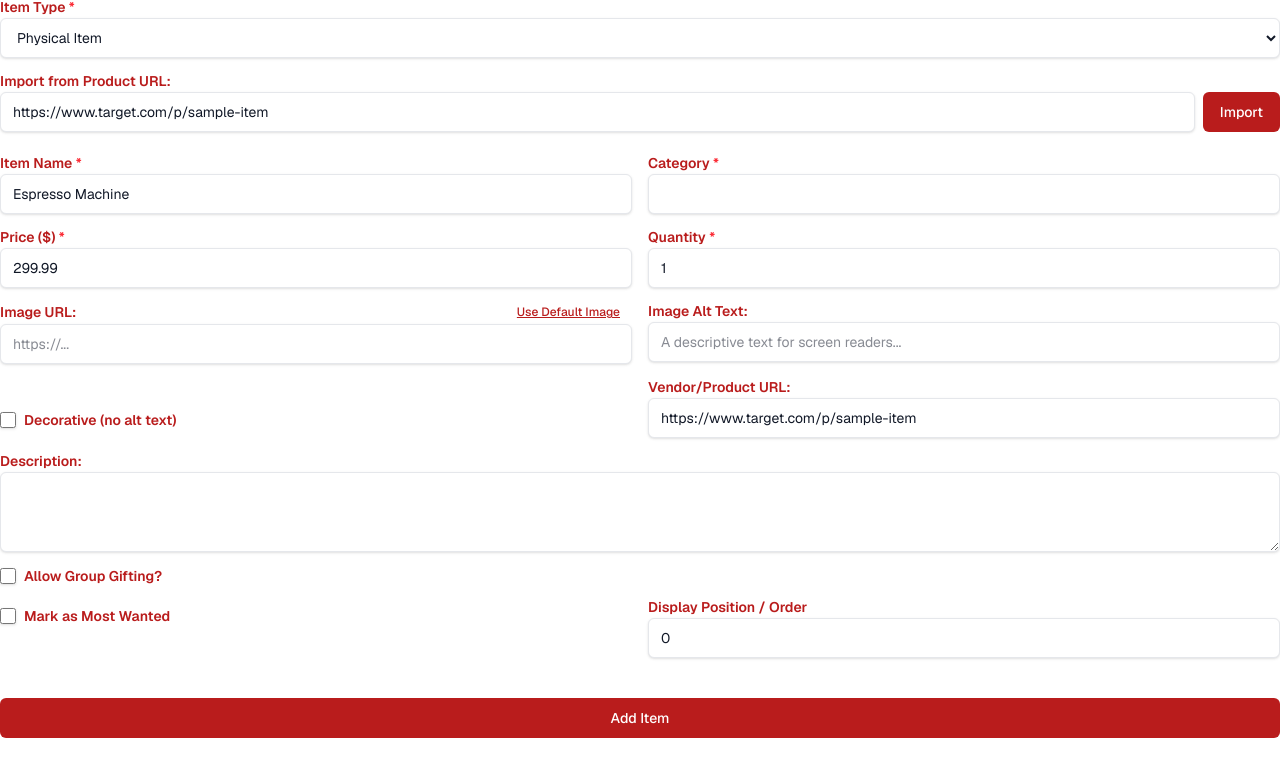
RegistryItemForm › does not overwrite vendorUrl when scraping fails if vendorUrl was already entered by user
The width and height of the screenshot is (1280, 777).
Replace the text in the field labelled "Vendor/Product URL:" with "https://custom-vendor.com/already-typed" at point(964, 418), box left=648, top=398, right=1279, bottom=438
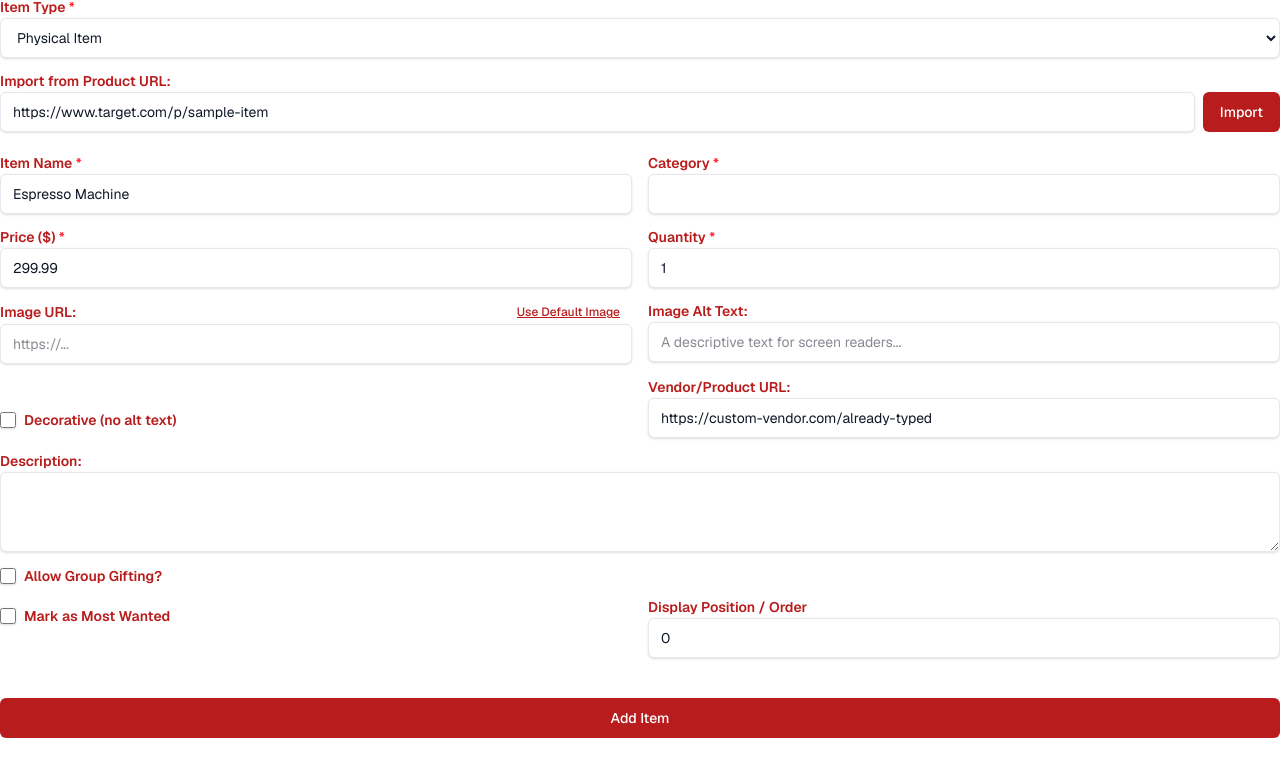
Replace the text in the field labelled "Import from Product URL:" with "https://example.com/bad-link" at point(597, 112), box left=0, top=92, right=1195, bottom=132
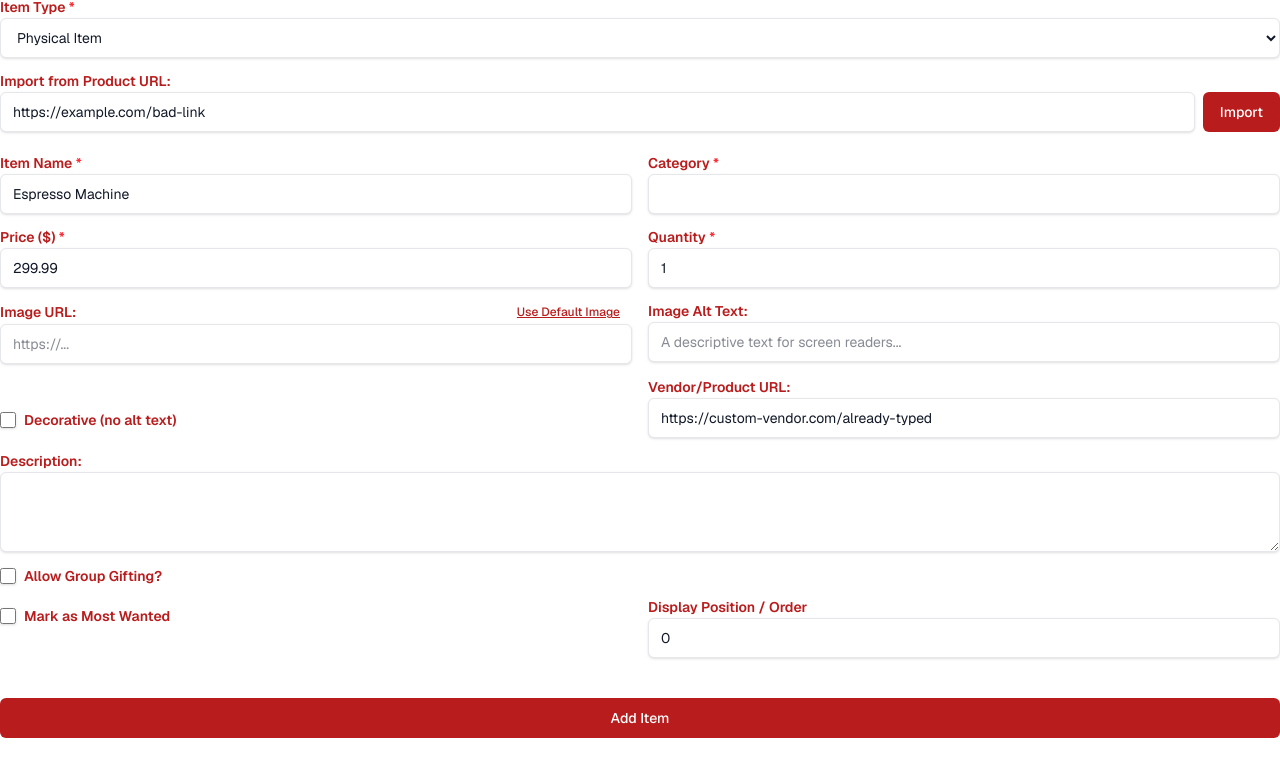
Click the button "Import" at point(1241, 112), box left=1203, top=92, right=1279, bottom=132
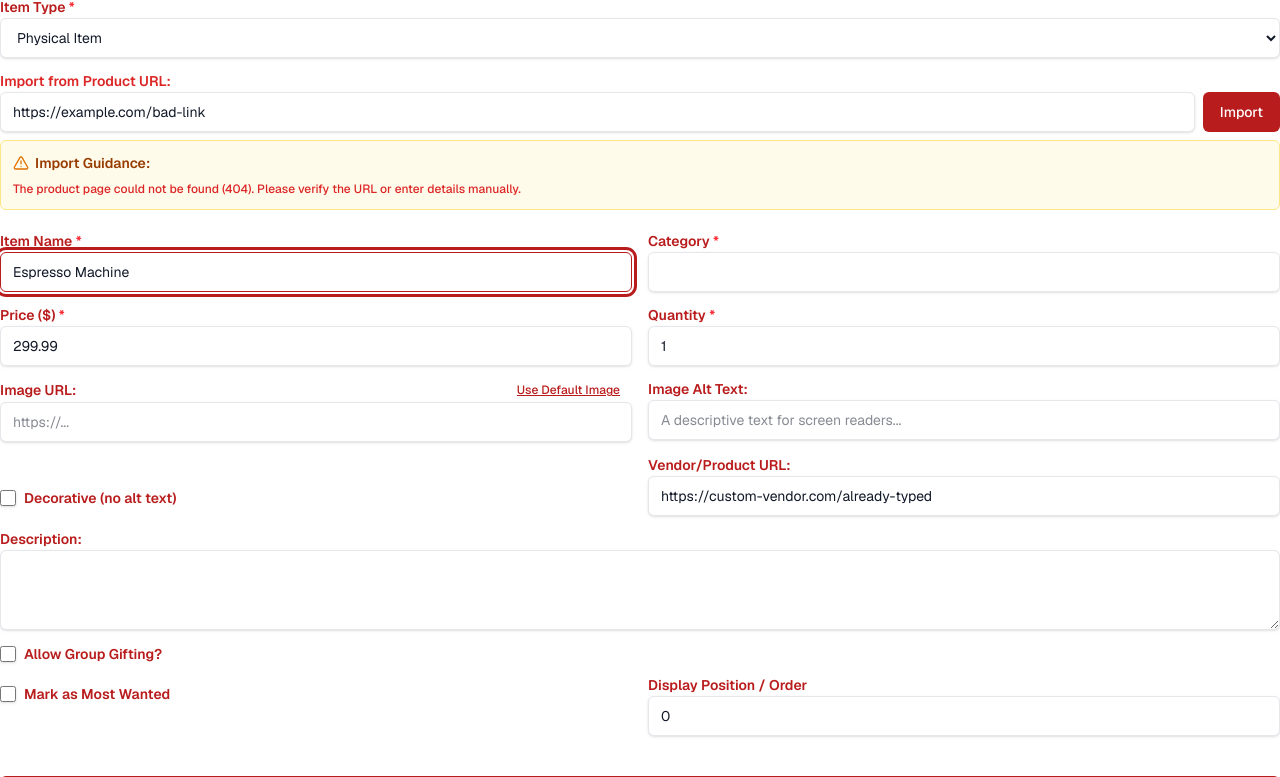
Result: the text "product page could not be found" is shown at left=13, top=181, right=521, bottom=197
